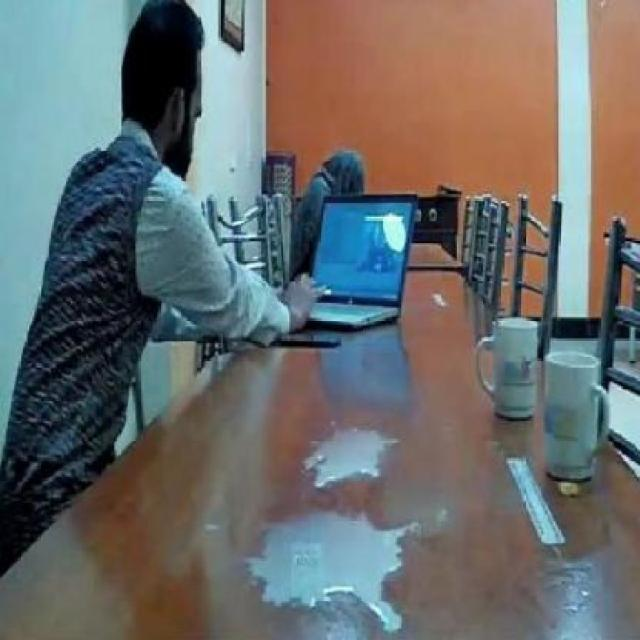spillage: (244, 513, 409, 632), (306, 430, 382, 488)
